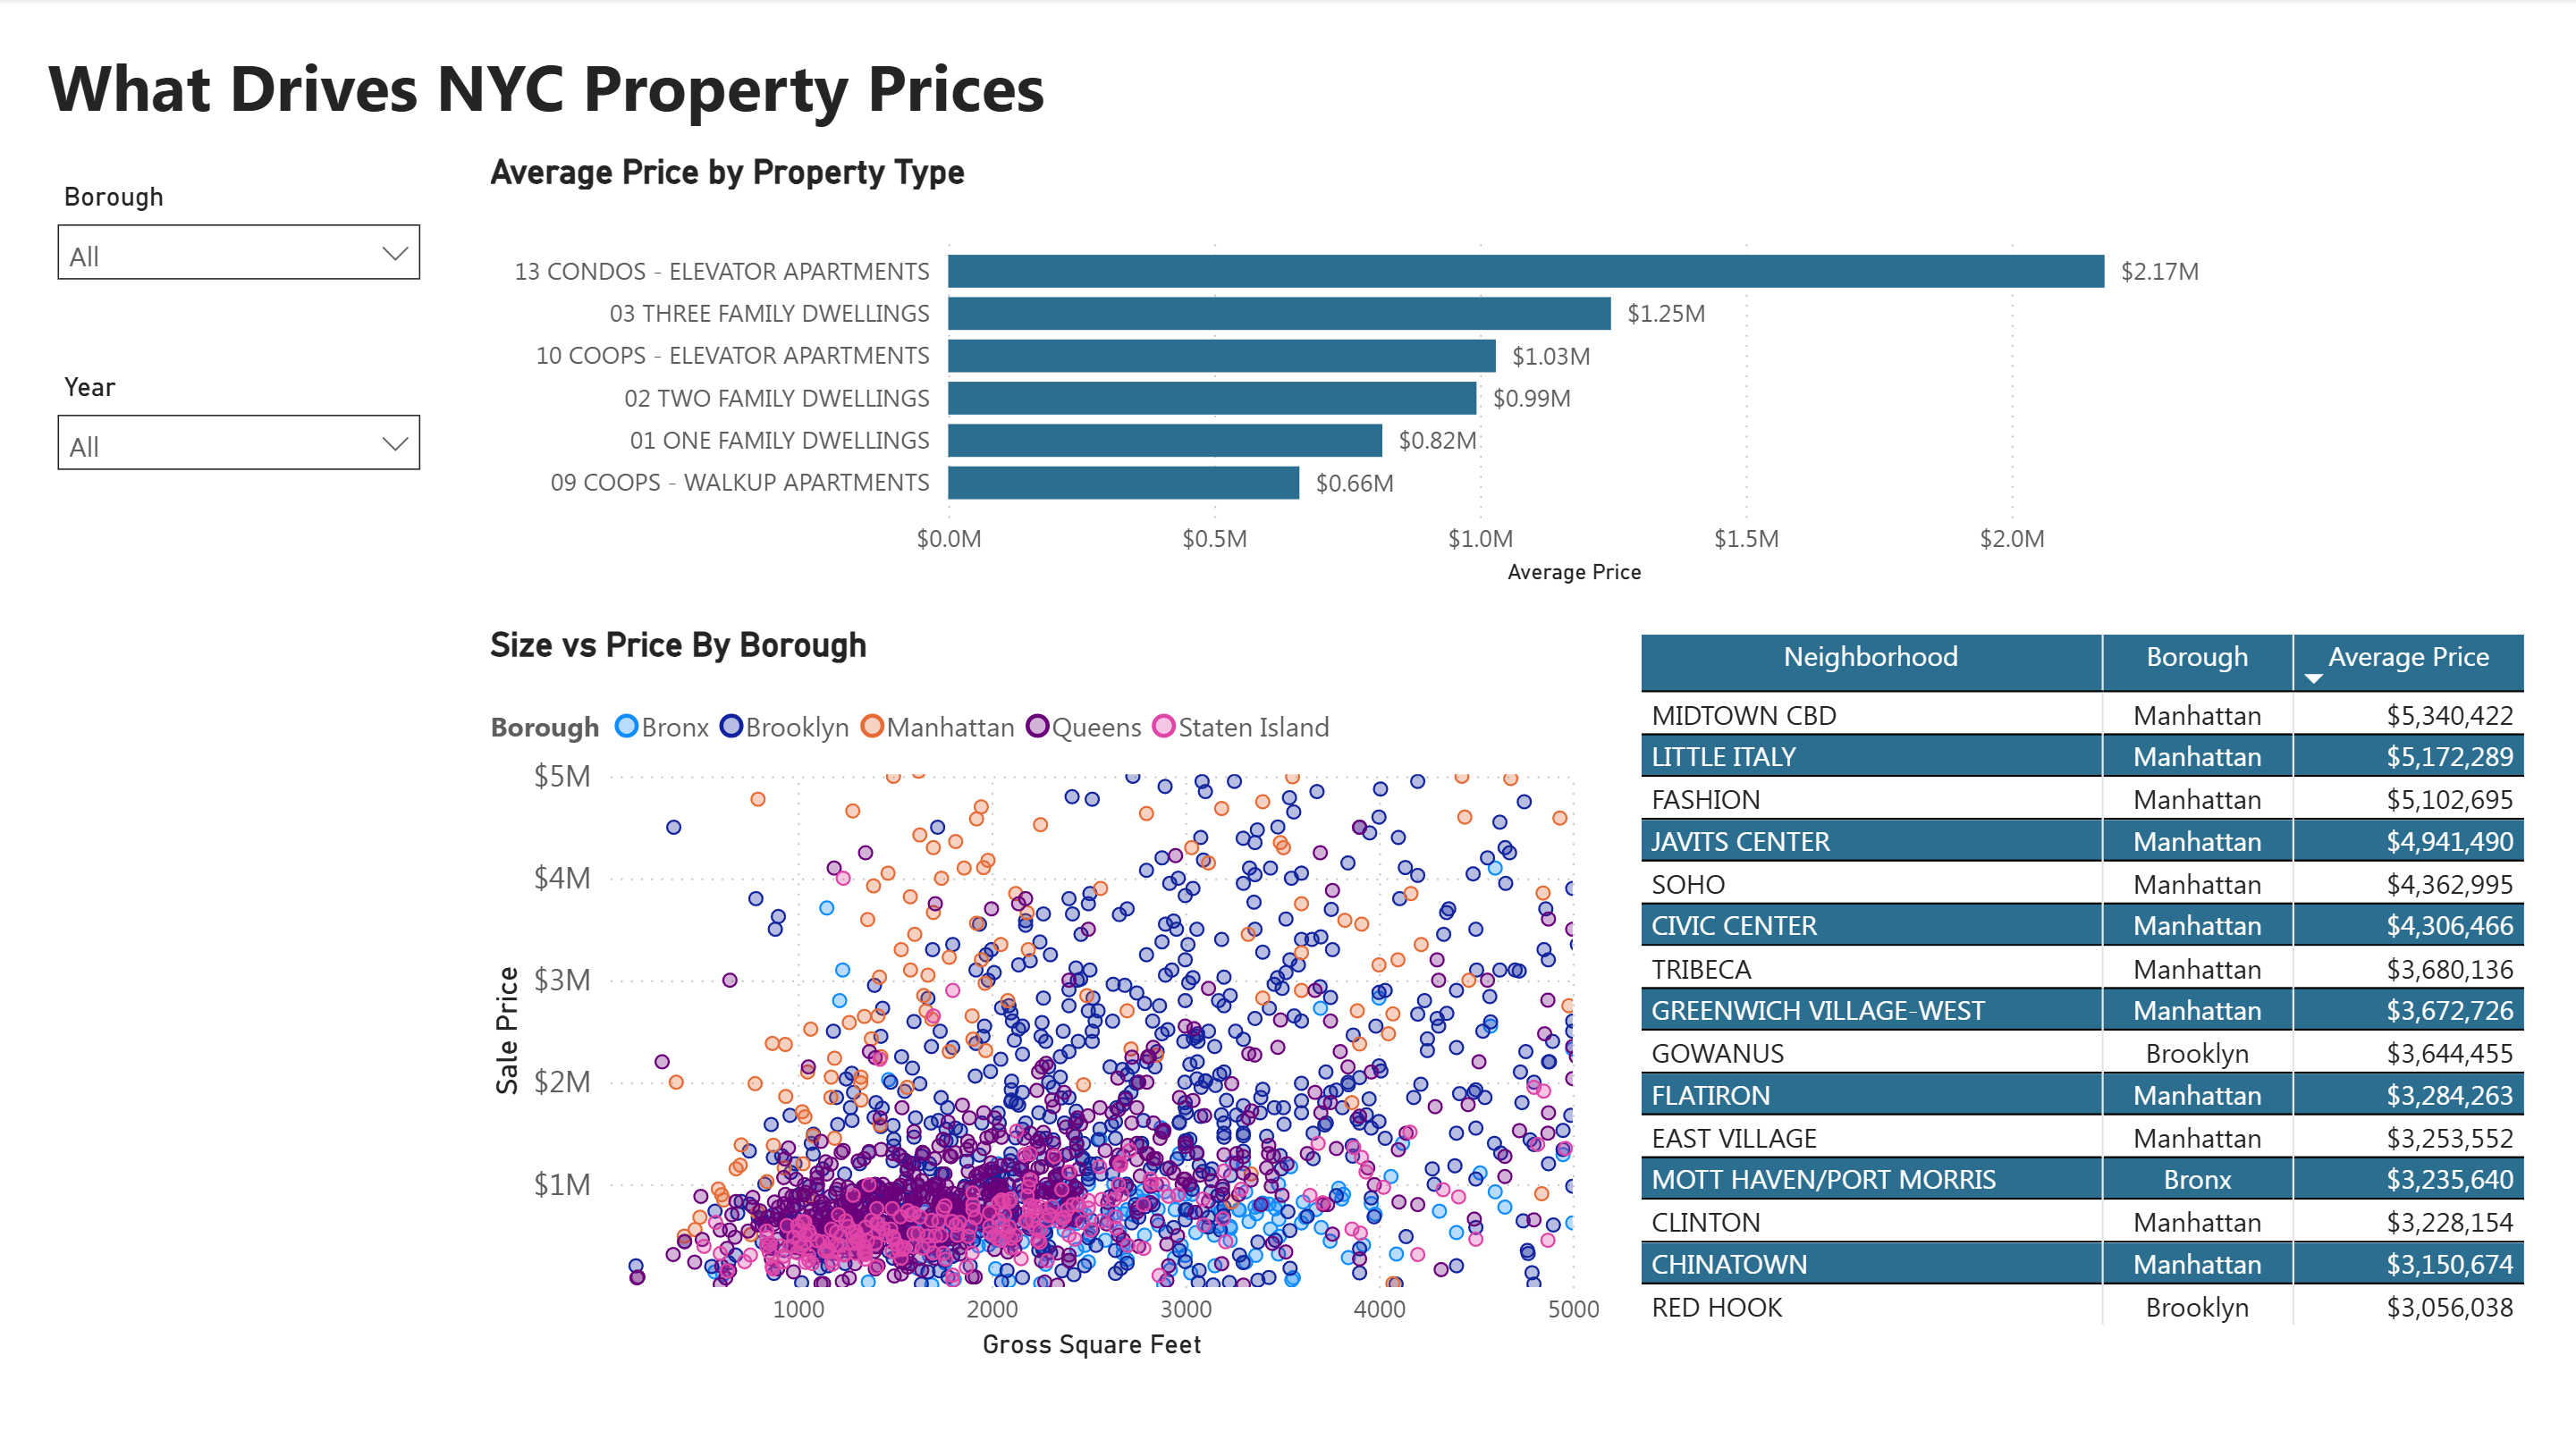

The dashboard page shown, as its layout file describes it:
{"tool":"powerbi","page":{"name":"Price & Property","canvas":[1280,720],"ordinal":1},"visuals":[{"type":"textbox","box":[20,15,1240,55],"z":0},{"type":"scatterChart","title":"Size vs Price By Borough","fields":{"X":["sales_sample.gross_sqft"],"Y":["sales_sample.sale_price"],"Series":["sales_sample.borough_name"]},"box":[240,310,560,370],"z":1000},{"type":"clusteredBarChart","title":"Average Price by Property Type","fields":{"Category":["price_by_type.building_category"],"Y":["Avg(price_by_type.avg_price)"]},"box":[240,75,876,220],"z":2000},{"type":"tableEx","fields":{"Values":["neighborhood_map.neighborhood","neighborhood_map.borough_name","Avg(neighborhood_map.avg_price)"]},"box":[810,310,450,370],"z":3000},{"type":"slicer","fields":{"Values":["neighborhood_map.borough_name"]},"box":[20,85,200,85],"z":4000},{"type":"slicer","fields":{"Values":["price_by_borough_year.sale_year"]},"box":[20,180,200,85],"z":5000}]}

Visuals, with their boxes in screenshot pixels (x1, y1, x2, y2), scaled from the page's 1280x720 canvas onto the 2576x1448 screenshot:
textbox: select_region(40, 30, 2536, 141)
"Size vs Price By Borough" scatterChart: select_region(483, 624, 1610, 1368)
"Average Price by Property Type" clusteredBarChart: select_region(483, 151, 2246, 594)
tableEx - neighborhood_map.neighborhood x neighborhood_map.borough_name: select_region(1630, 624, 2536, 1368)
slicer - neighborhood_map.borough_name: select_region(40, 171, 443, 341)
slicer - price_by_borough_year.sale_year: select_region(40, 362, 443, 533)
